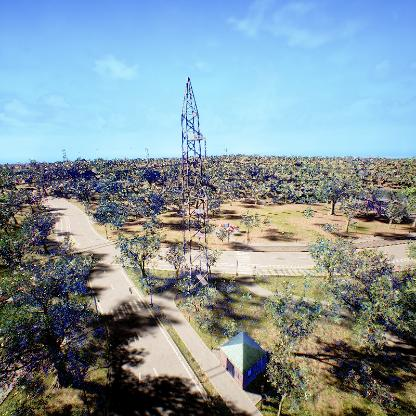tower: (177, 76, 212, 301)
